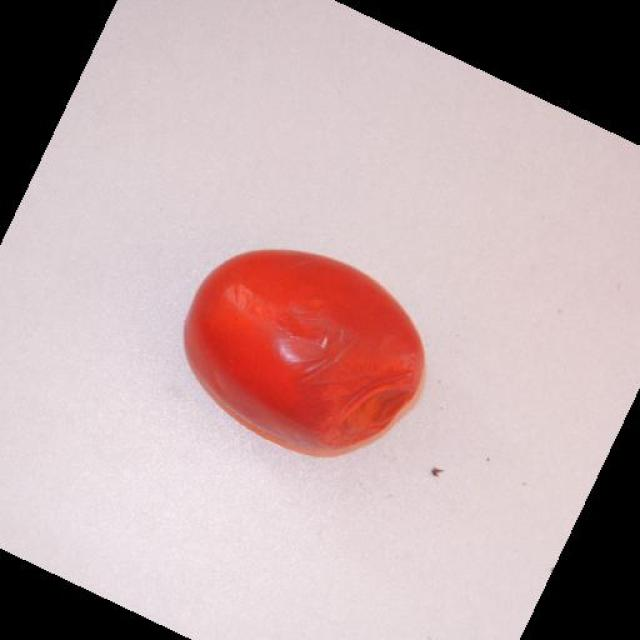Stale_tomato: (196, 234, 430, 468)
